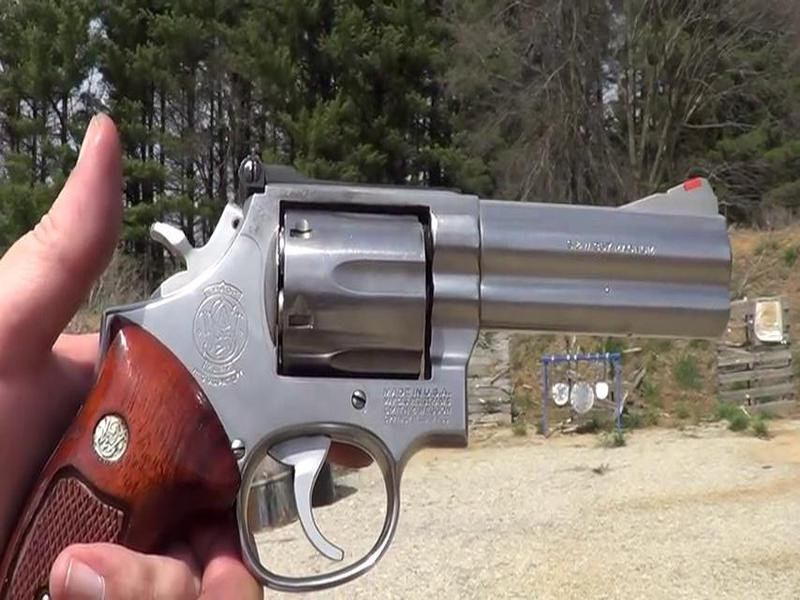Revolver: (56, 101, 743, 596)
